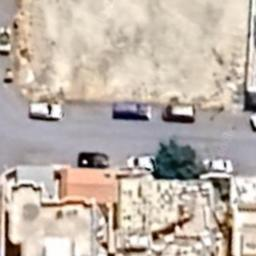SUV: (30, 102, 64, 122)
sedan: (202, 158, 234, 174), (128, 154, 159, 170)
unknown: (112, 102, 152, 120), (78, 151, 110, 168)
van: (162, 102, 194, 122)
